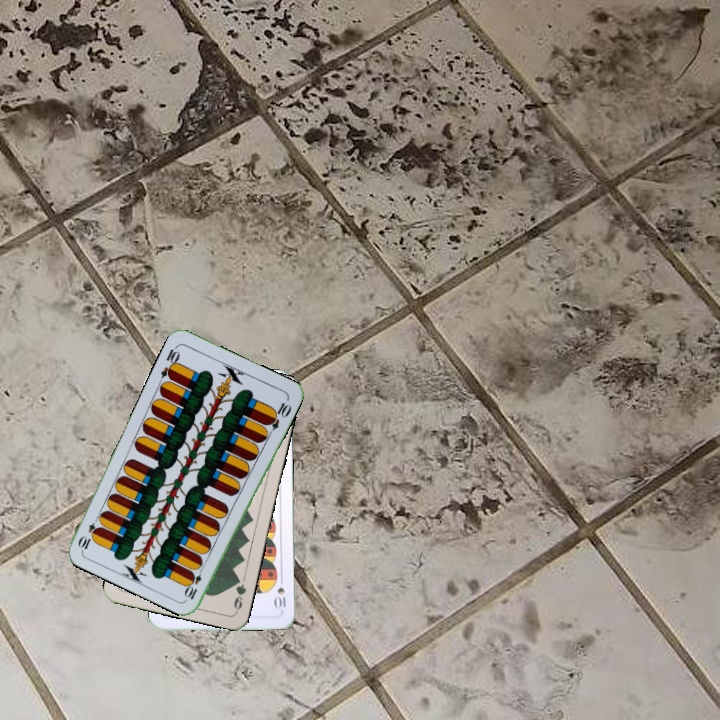E10: (156, 342, 183, 382), (182, 562, 206, 602)
G9: (230, 573, 249, 614)
S10: (272, 583, 288, 612)
